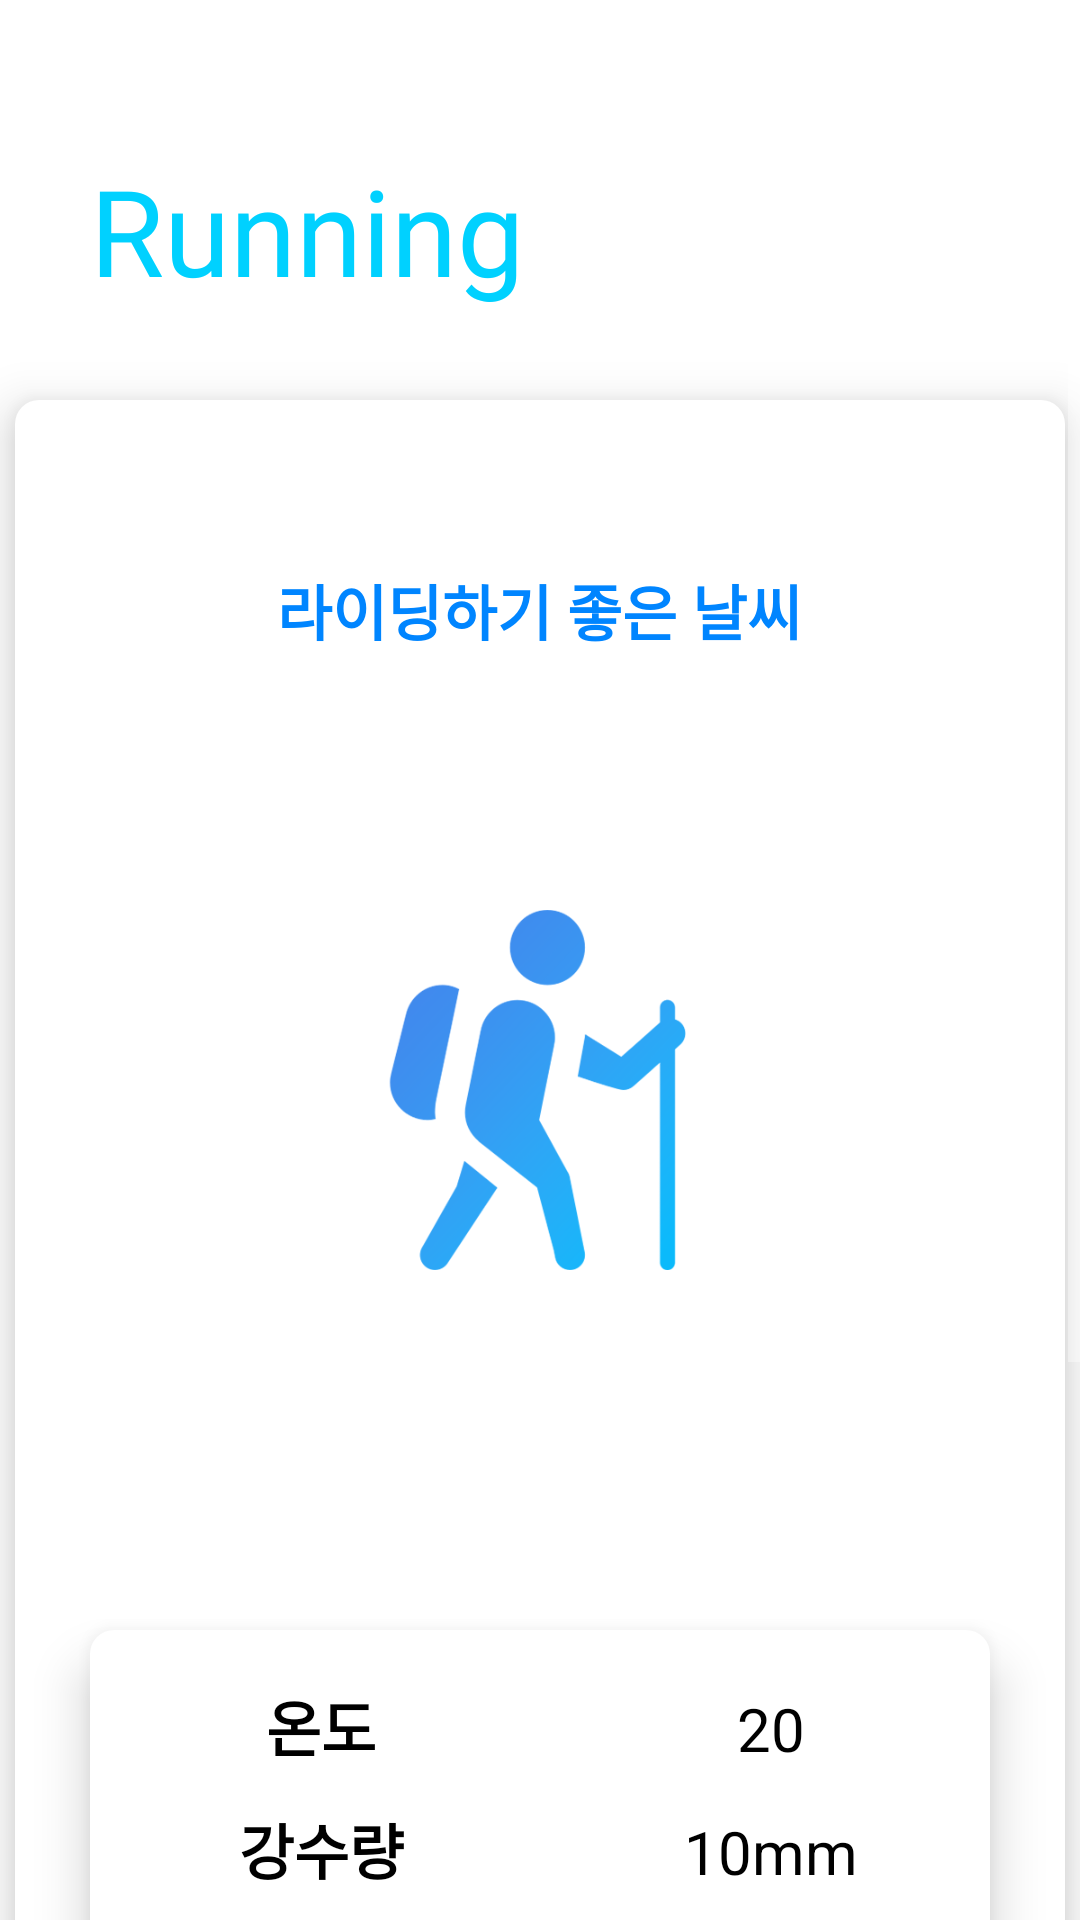

Locate icon controls on the screen. Image size 1080px×1920px, boxes as (x1, y1, x2, y2).
hiking: (389, 910, 686, 1270)
